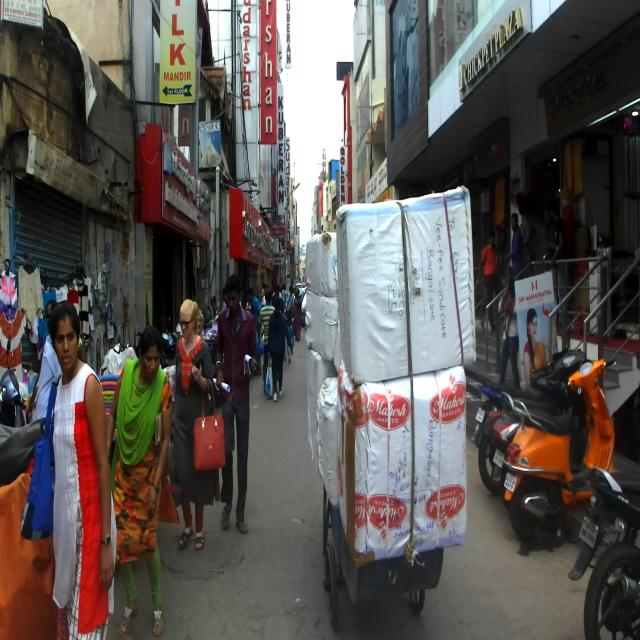barrier ahead at: (301, 200, 477, 624)
motorcycle ahead at: (480, 338, 616, 513), (573, 464, 638, 640)
person ahead at: (28, 303, 122, 640), (169, 297, 228, 549)
